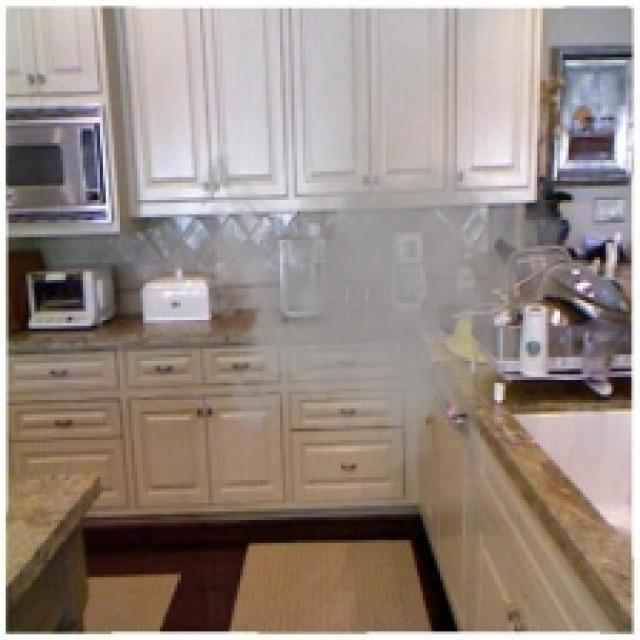Smoke: (186, 94, 563, 489)
